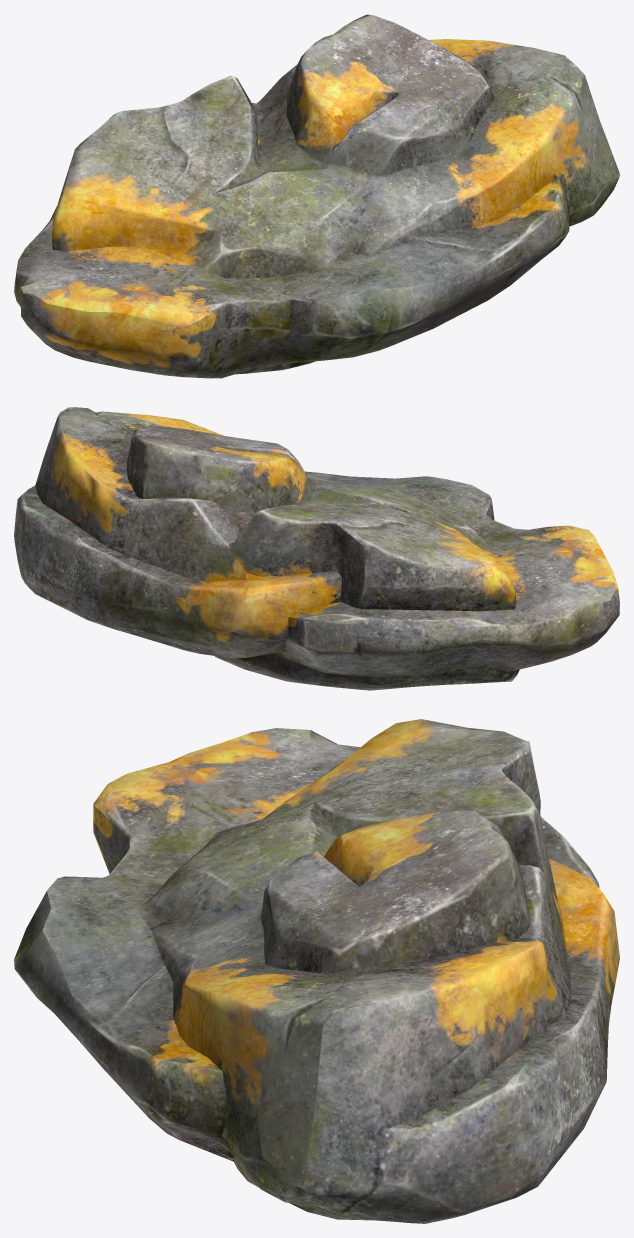
The picture shows the model from 3 angles, top to bottom: view 1: azimuth 30°, elevation 25°; view 2: azimuth 150°, elevation 25°; view 3: azimuth 270°, elevation 25°; orthographic projection. The views are drawn at different scales.
Parts seen in each view (by area): view 1: SM_Mining_Node_Large_Gold_01_LOD0; view 2: SM_Mining_Node_Large_Gold_01_LOD0; view 3: SM_Mining_Node_Large_Gold_01_LOD0.
Boxes of the visible parts, left/top/right/bottom form: SM_Mining_Node_Large_Gold_01_LOD0: left=14, top=14, right=619, bottom=378; SM_Mining_Node_Large_Gold_01_LOD0: left=14, top=407, right=619, bottom=690; SM_Mining_Node_Large_Gold_01_LOD0: left=14, top=719, right=619, bottom=1223.
Size of the model in its own units: 5.52 by 2.18 by 3.38.
